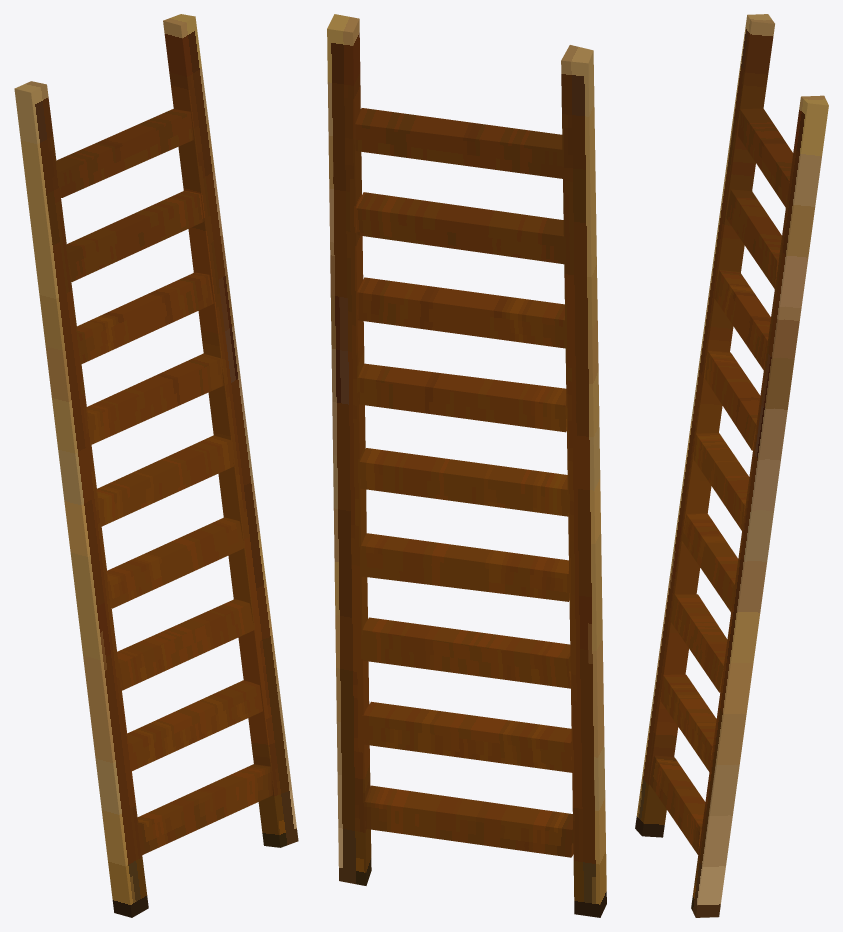
Rendered from hasi34-1.glb.
The picture shows the model from 3 angles, left to right: view 1: azimuth 30°, elevation 25°; view 2: azimuth 150°, elevation 25°; view 3: azimuth 270°, elevation 25°; orthographic projection. The views are drawn at different scales.
Visible parts, largest first — view 1: hasi34_1; view 2: hasi34_1; view 3: hasi34_1.
Boxes of the visible parts, x1=… form: hasi34_1: x1=14, y1=14, x2=298, y2=917; hasi34_1: x1=327, y1=14, x2=606, y2=917; hasi34_1: x1=635, y1=14, x2=828, y2=917.
Size of the model in its own units: 122 by 378 by 83.
Materials: 1 (1 with a texture image).
